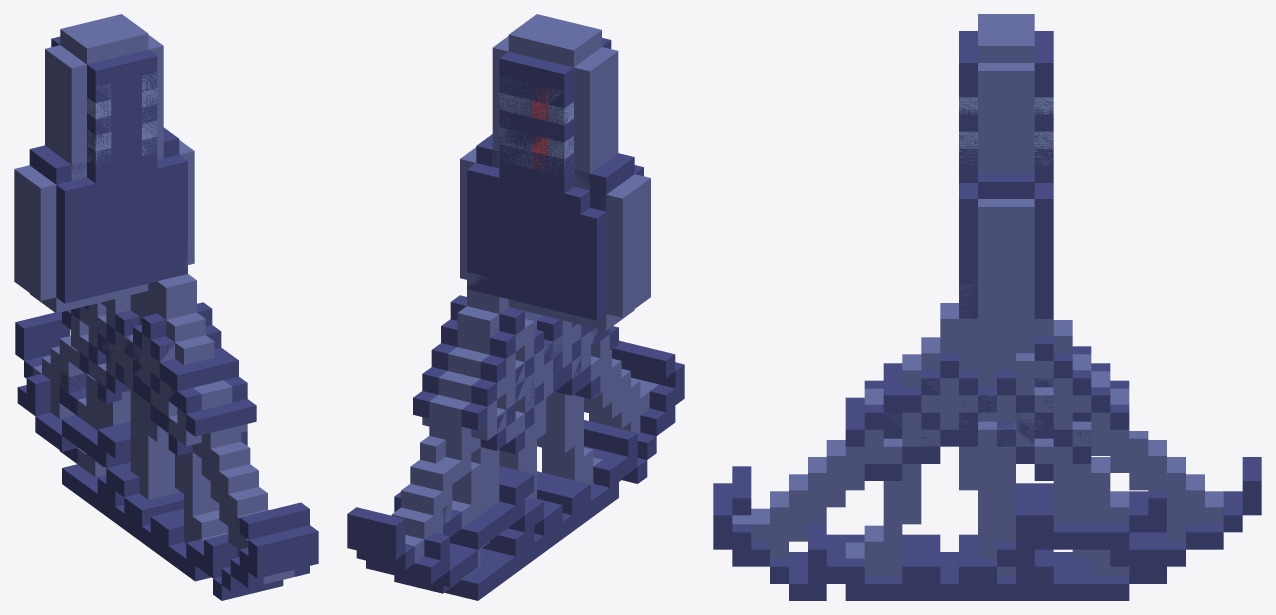
Rendered from walk1foot.fbx.
3 views of the same model, side by side, from view 1: azimuth 30°, elevation 25°; view 2: azimuth 150°, elevation 25°; view 3: azimuth 270°, elevation 25° (orthographic). The views are drawn at different scales.
Parts seen in each view (by area): view 1: Default_2, Default, Default_5, Default_4, Default_6, Default_8, Default_7, Default_3; view 2: Default_5, Default, Default_4, Default_6, Default_2, Default_7, Default_8; view 3: Default_5, Default, Default_2, Default_4, Default_6, Default_7, Default_8.
Part boxes in pixels (left/top/right/bottom): Default_2: left=14, top=110, right=318, bottom=600; Default: left=14, top=94, right=237, bottom=581; Default_5: left=14, top=14, right=194, bottom=467; Default_4: left=14, top=62, right=228, bottom=560; Default_6: left=14, top=79, right=187, bottom=451; Default_8: left=97, top=293, right=179, bottom=555; Default_7: left=59, top=318, right=130, bottom=515; Default_3: left=14, top=219, right=64, bottom=284; Default_5: left=394, top=14, right=650, bottom=549; Default: left=460, top=99, right=650, bottom=524; Default_4: left=460, top=65, right=650, bottom=538; Default_6: left=347, top=83, right=650, bottom=587; Default_2: left=460, top=117, right=684, bottom=483; Default_7: left=394, top=222, right=617, bottom=600; Default_8: left=482, top=311, right=582, bottom=566; Default_5: left=959, top=14, right=1166, bottom=549; Default: left=808, top=114, right=1053, bottom=600; Default_2: left=713, top=139, right=1053, bottom=600; Default_4: left=902, top=80, right=1053, bottom=600; Default_6: left=959, top=106, right=1261, bottom=566; Default_7: left=978, top=251, right=1166, bottom=600; Default_8: left=905, top=327, right=1053, bottom=600.
Size of the model in its own units: 10 by 31 by 29.
8 materials, 8 textured.
